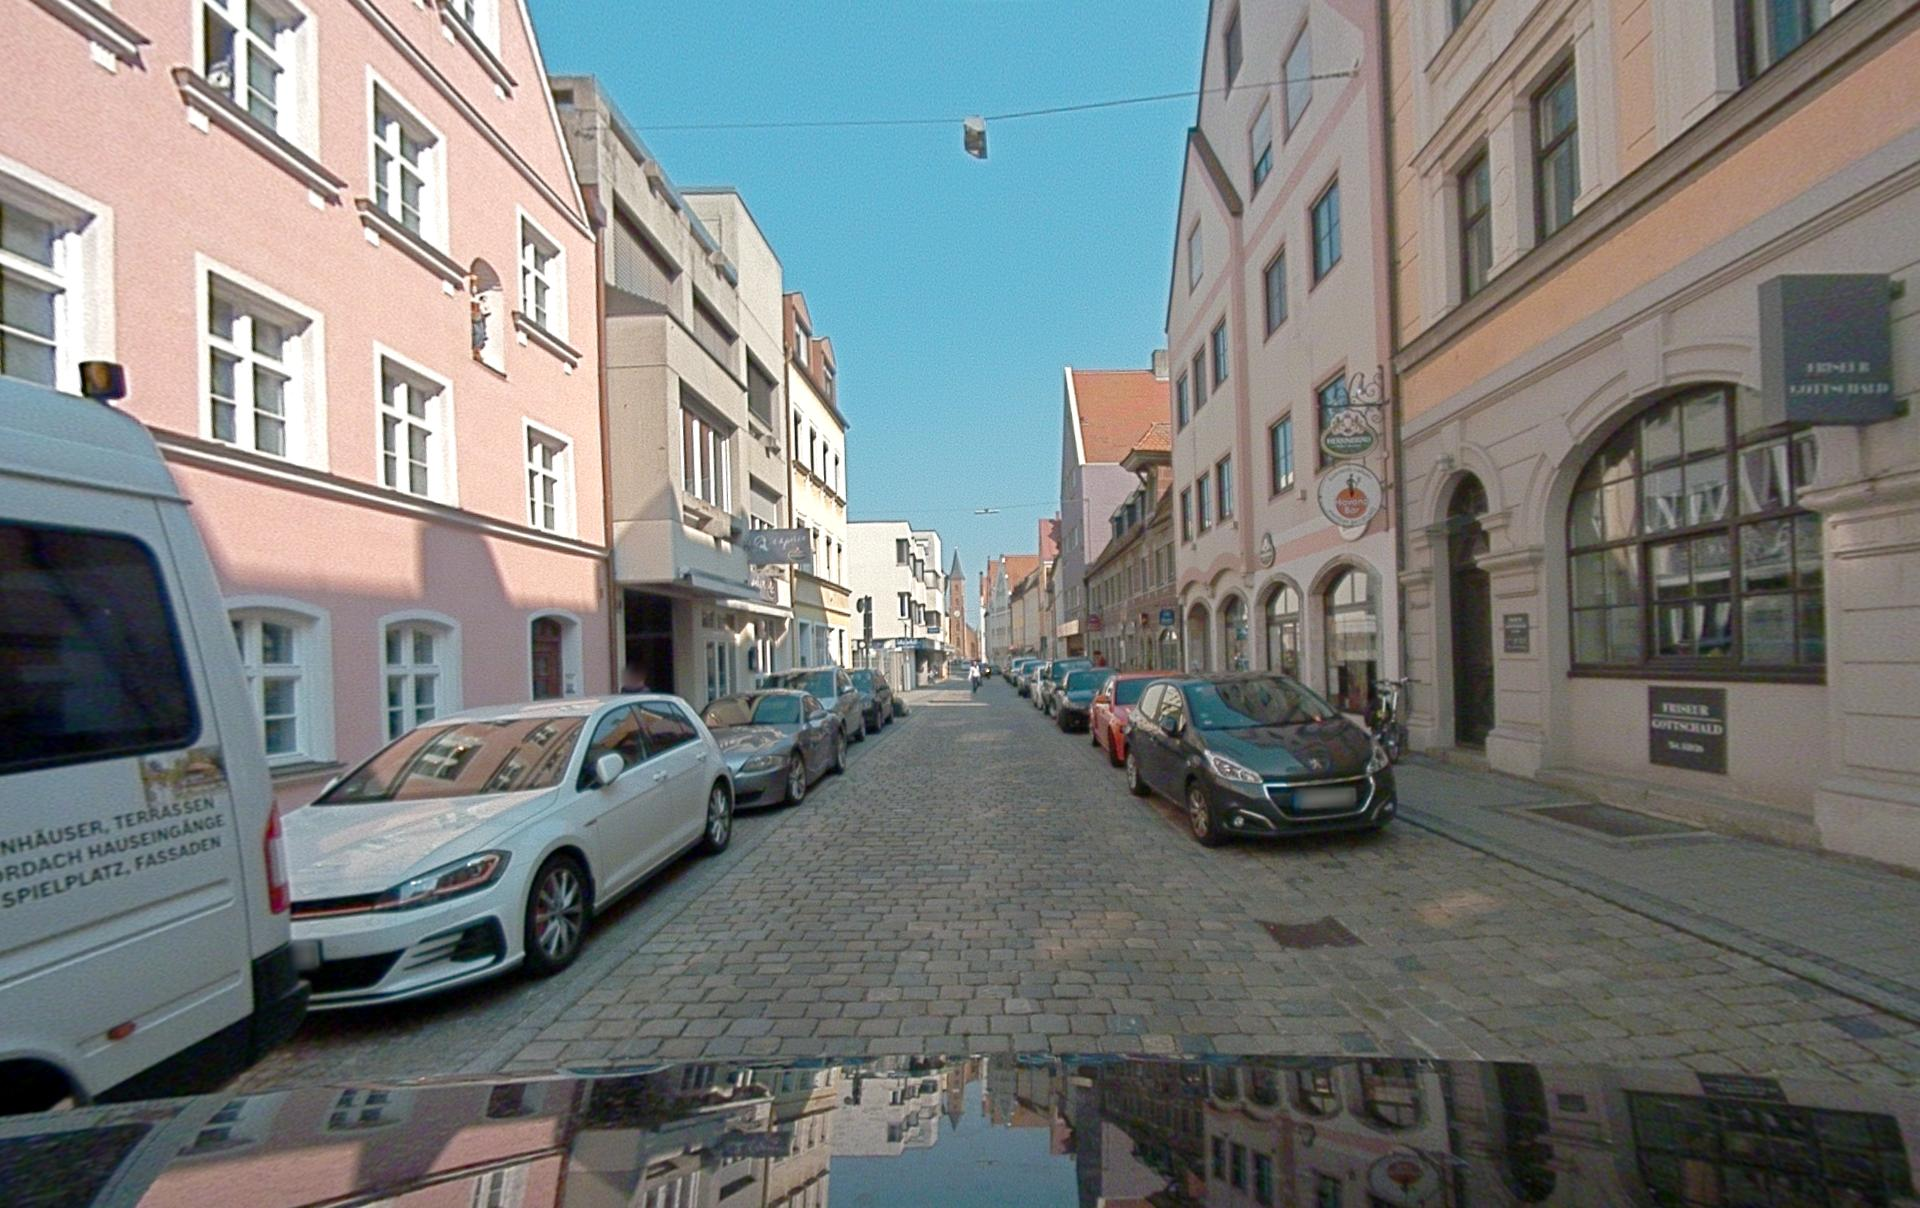car: (285, 694, 733, 1008), (1126, 672, 1395, 845), (701, 689, 845, 804), (1089, 671, 1178, 765), (757, 665, 865, 740), (1055, 668, 1112, 731), (1031, 657, 1091, 713), (849, 669, 893, 732), (1017, 660, 1043, 696), (1030, 662, 1049, 707)
motorcycle: (1365, 678, 1409, 761)
